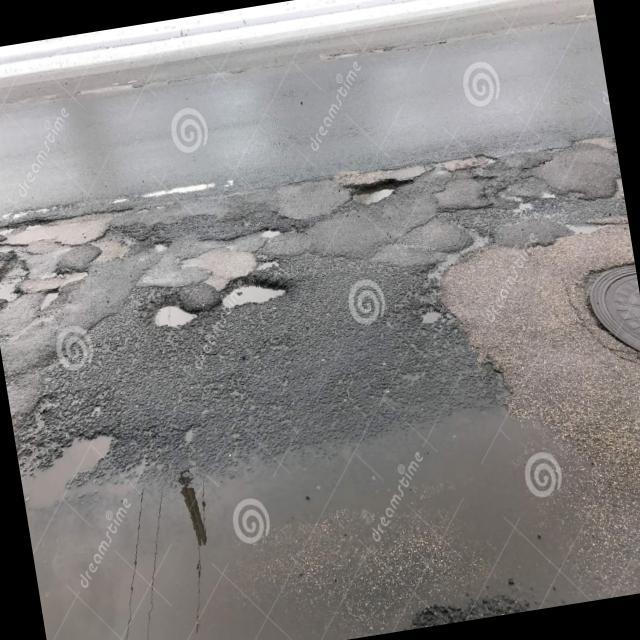Pothole: (209, 266, 299, 324), (341, 166, 412, 220), (559, 202, 618, 254), (0, 193, 54, 247), (148, 289, 205, 340), (0, 240, 36, 313), (410, 292, 456, 338), (255, 215, 289, 252), (33, 282, 66, 314), (148, 230, 172, 264)
